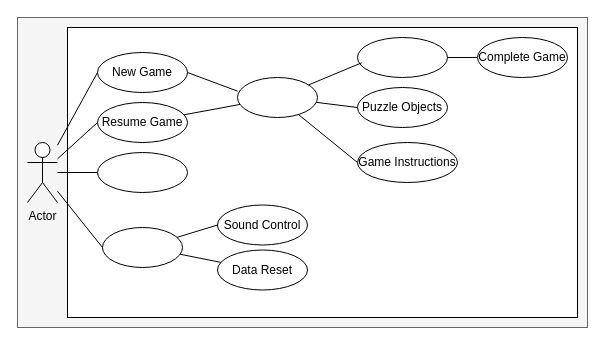
This 605x345 diagram has some shape labels left out. The box of each missing label's shape, as (x1, y1, x2, y2) in pixels:
Exit Game: (96, 152, 188, 192)
Game Stages: (356, 36, 448, 78)
Options: (102, 226, 182, 268)
Playing Game: (236, 76, 318, 118)
